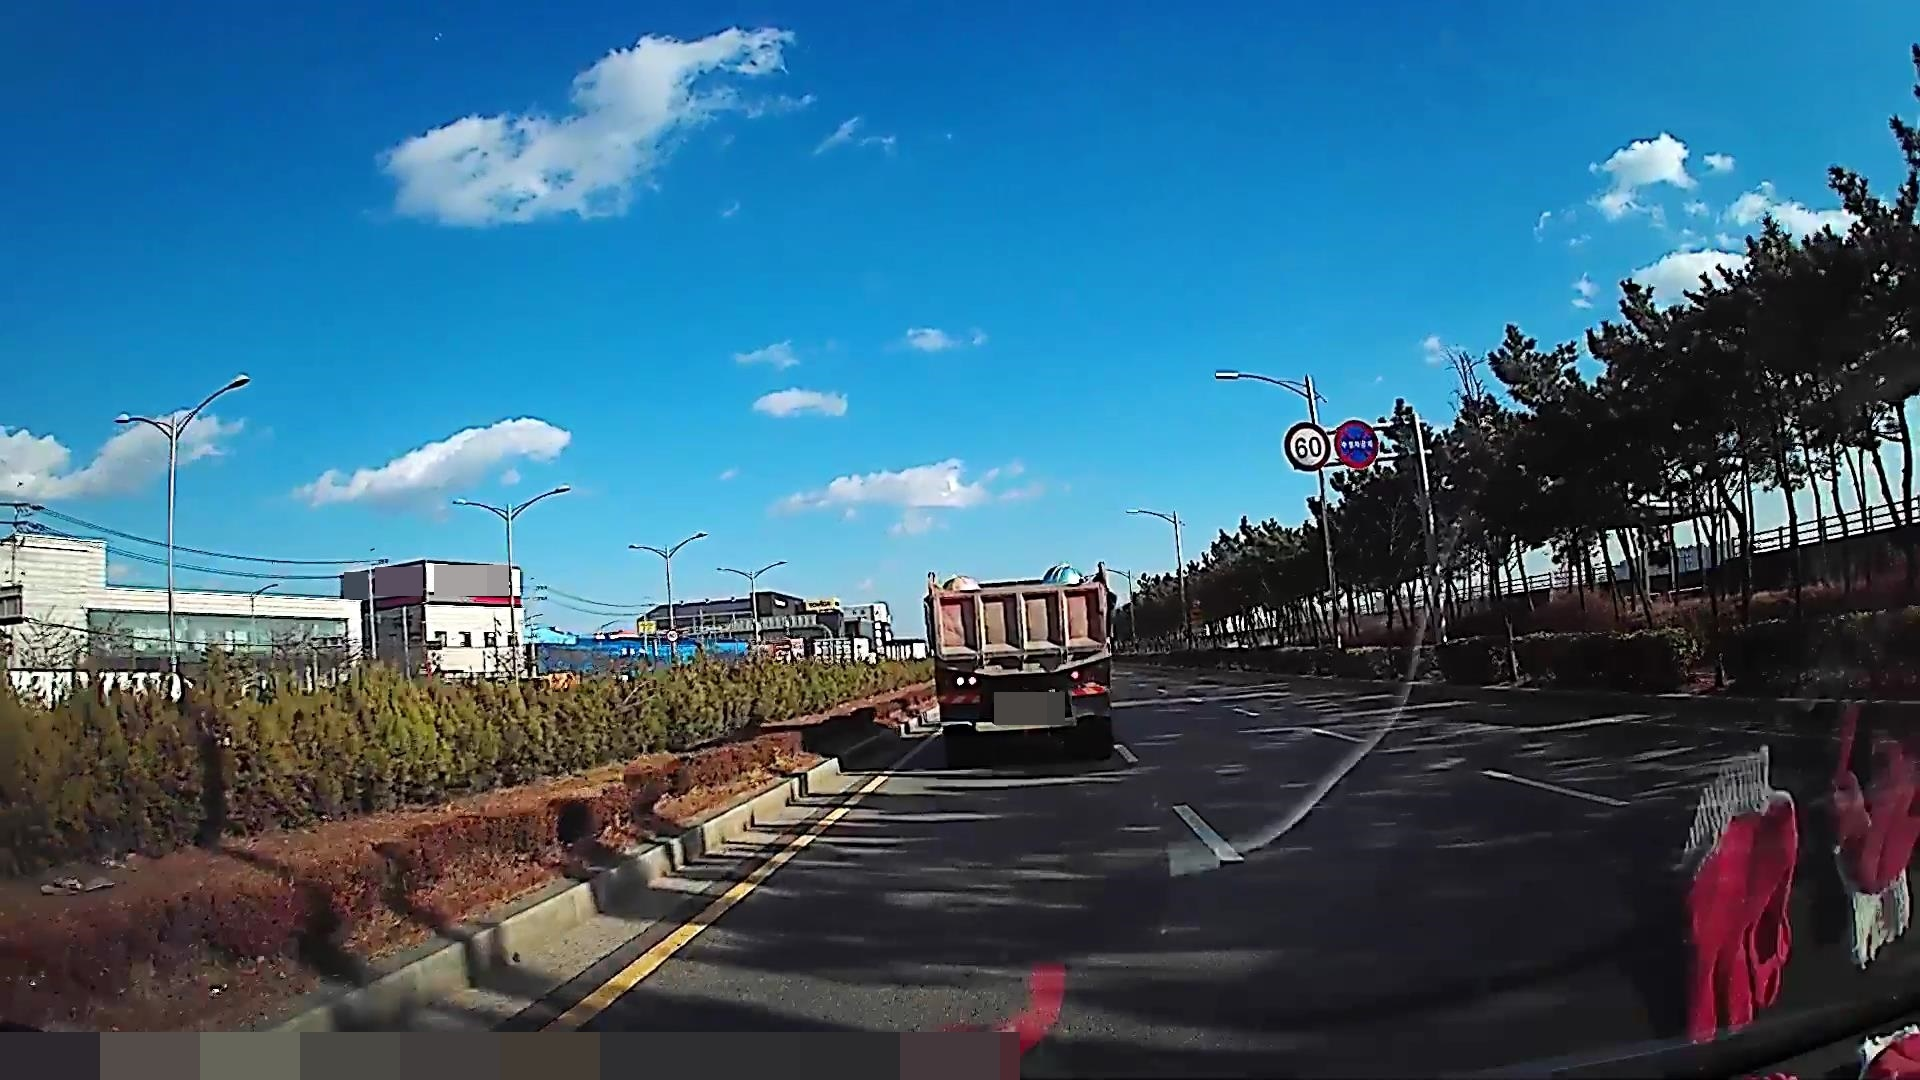불법차량: (922, 560, 1117, 770)
